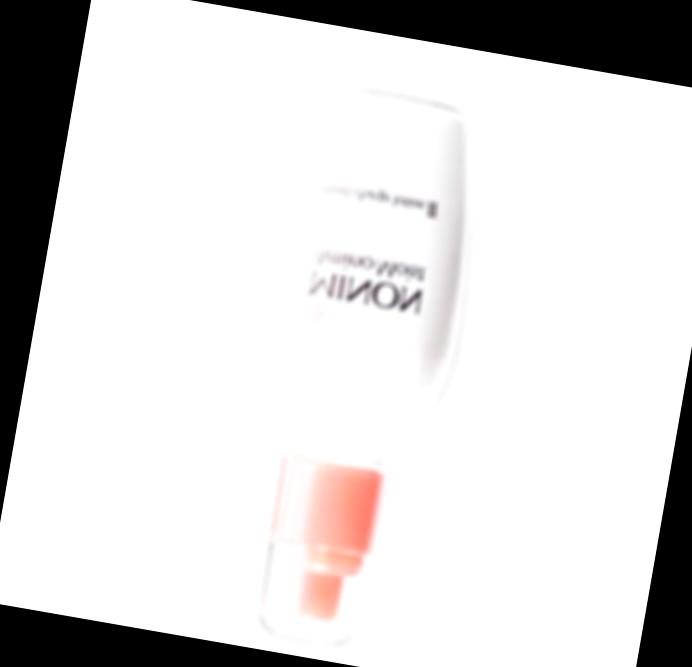cosmetic: (201, 74, 501, 665)
